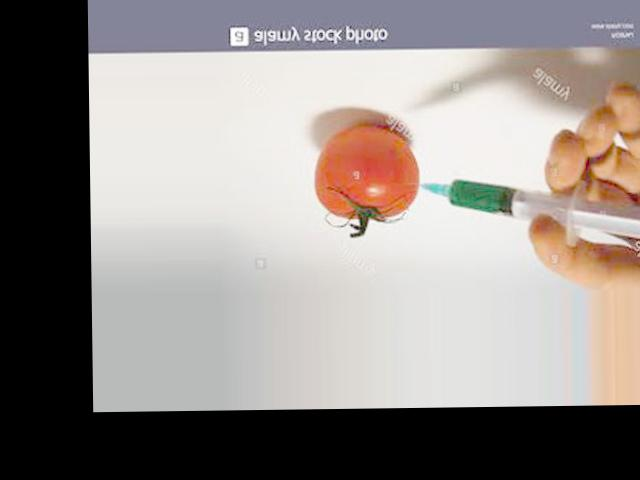tomato: (315, 125, 420, 218)
